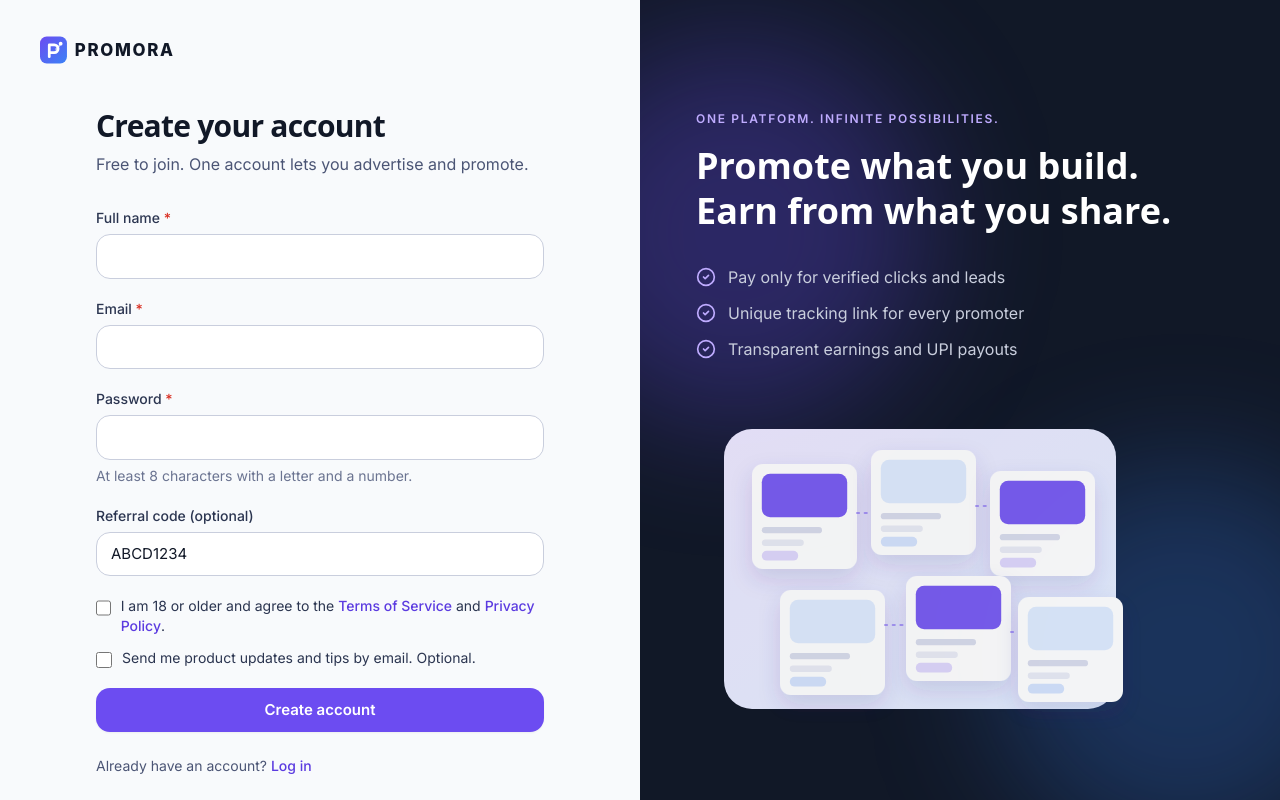
registration form validation › sends the form to the API and shows a server-side duplicate email error
Check: the field labelled "Referral code (optional)" holds "ABCD1234", box [96,532,544,576]
Step 1. Type "Asha Rao" into the field labelled "Full name *" → (320, 256), box [96,234,544,278]
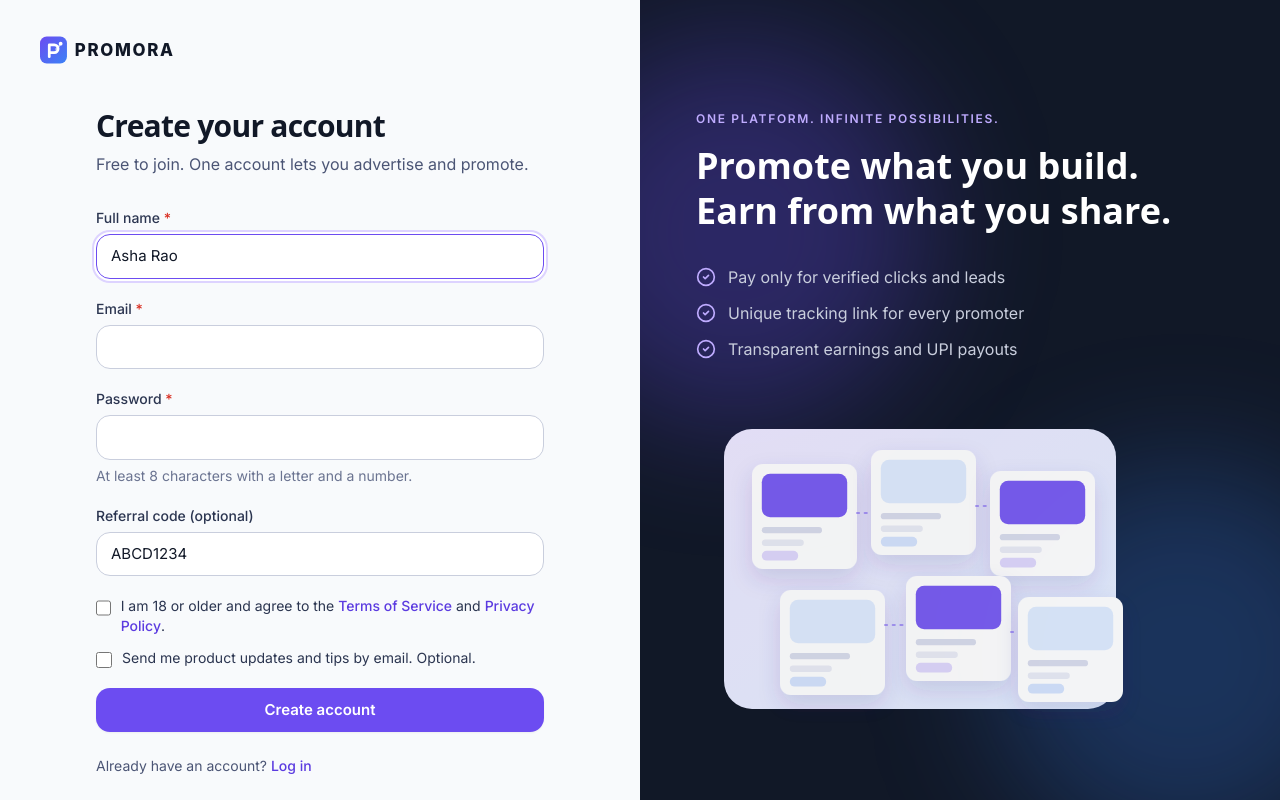
Step 2. Type "asha@example.com" into the field labelled "Email *" → (320, 347), box [96,324,544,369]
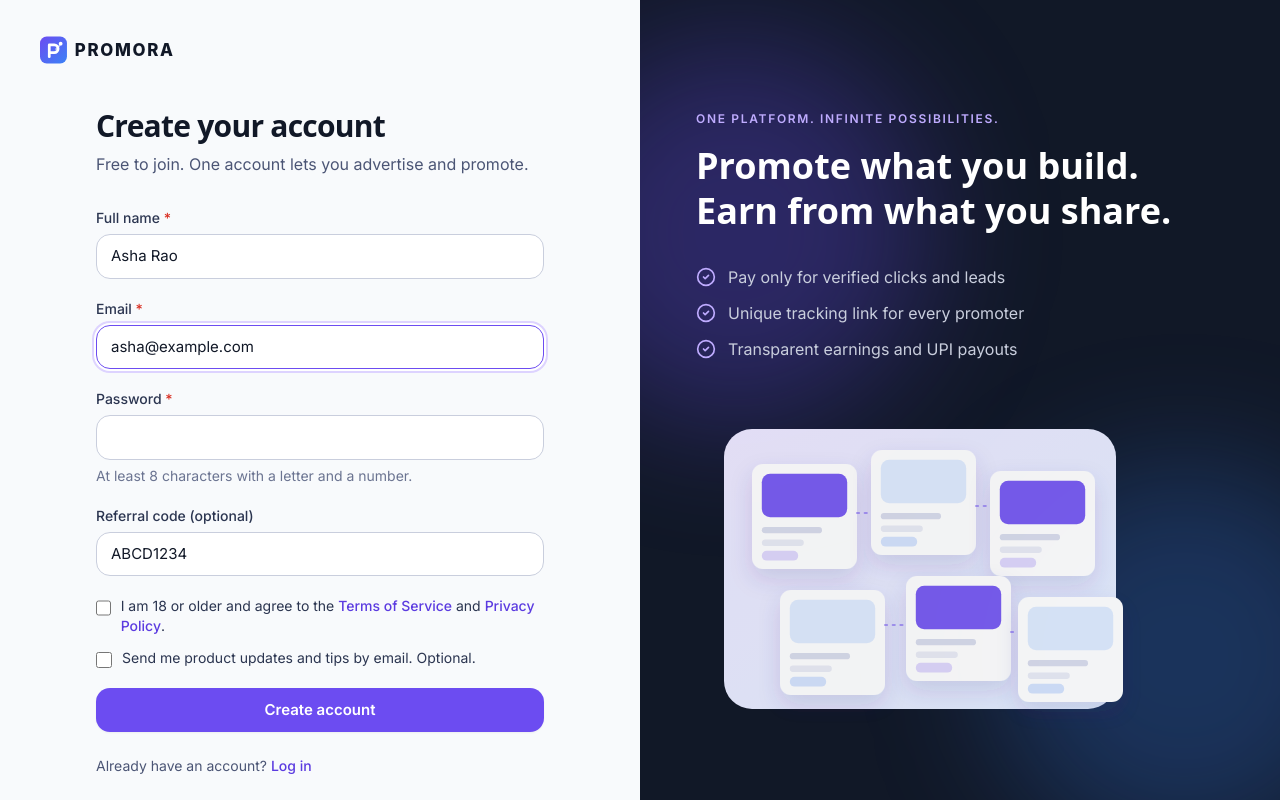
Step 3. Type "Passw0rd-123" into the password field labelled "Password *" → (320, 437), box [96,415,544,460]
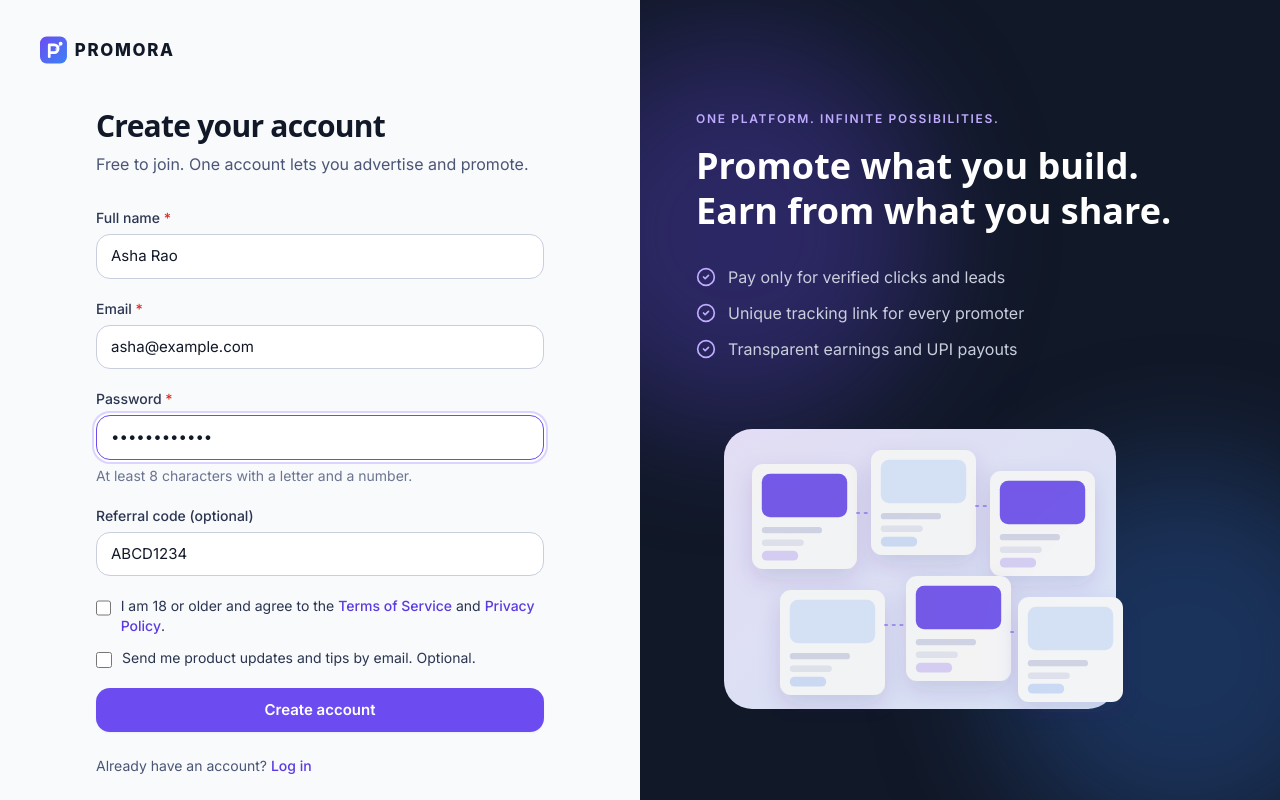
Step 4. Click the checkbox labelled "I am 18 or older" → (103, 608), box [96,600,111,616]
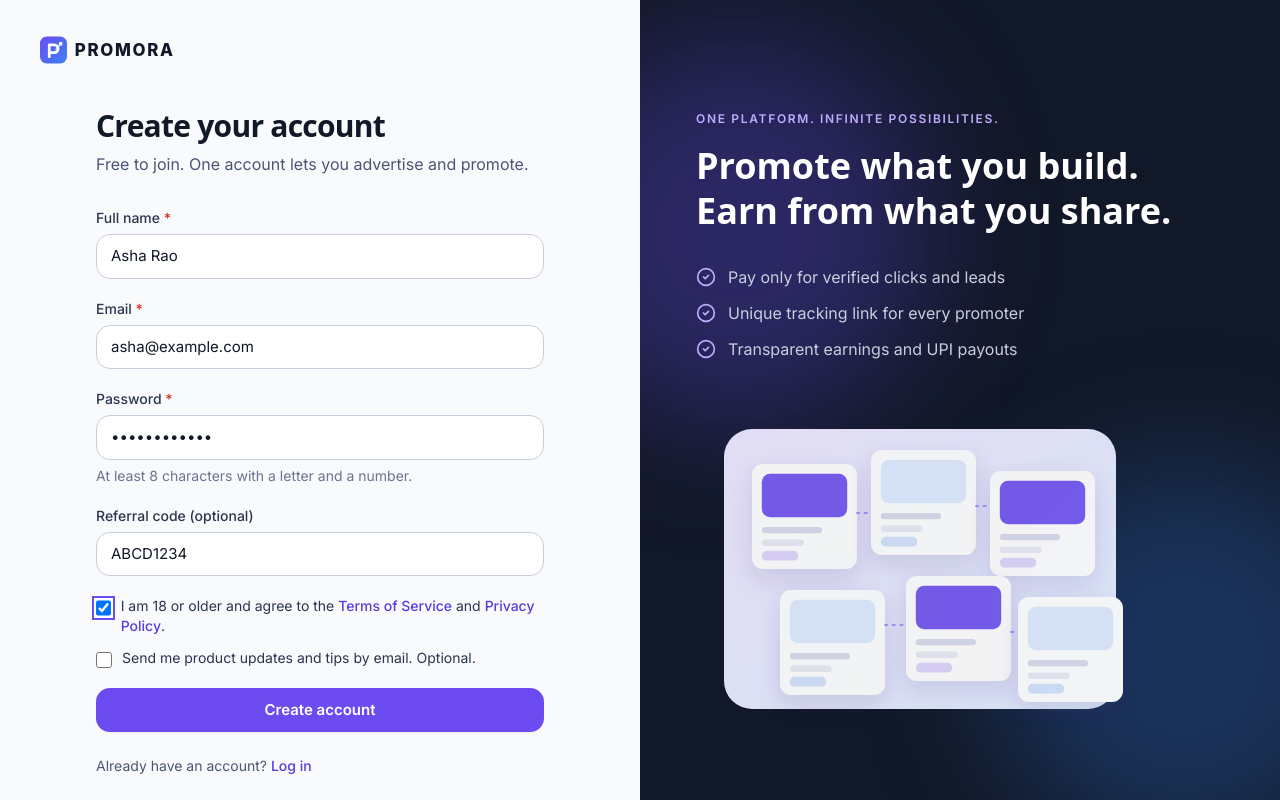
Step 5. Click the button "Create account" → (320, 710), box [96,688,544,732]
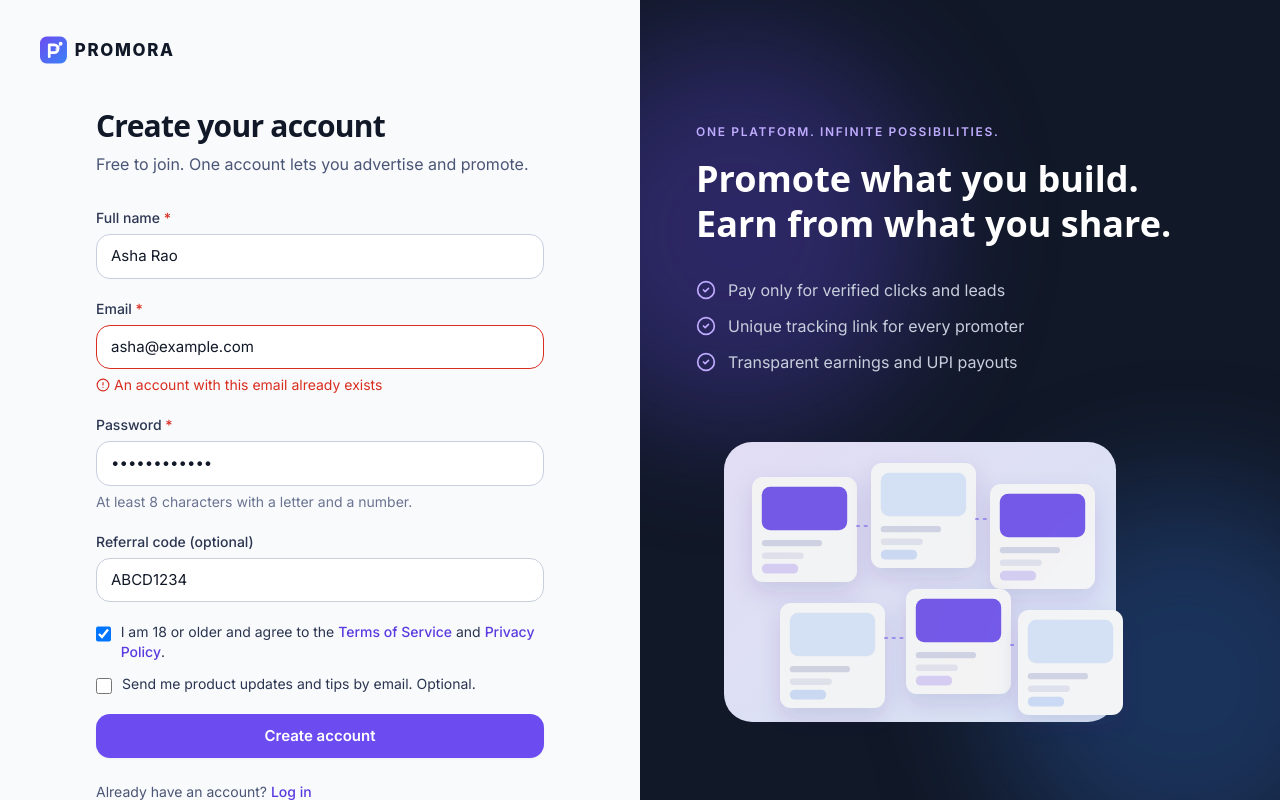
Check: the text "An account with this email already exists" is shown, box [96,376,382,393]
